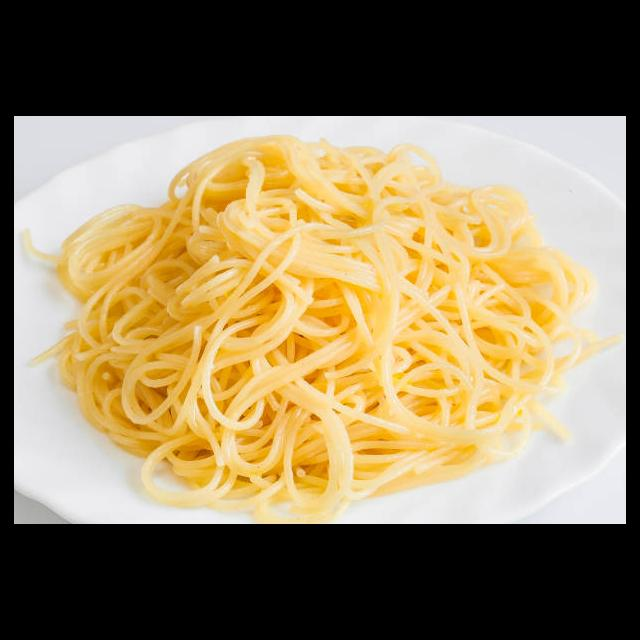noodles: (21, 134, 619, 524)
